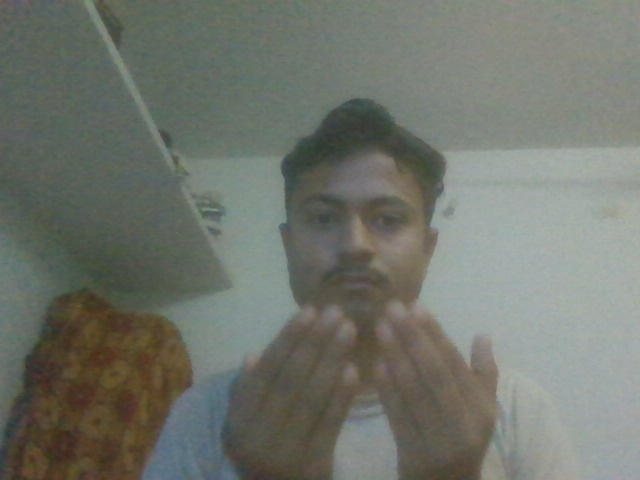Thanks: (215, 295, 506, 480)
